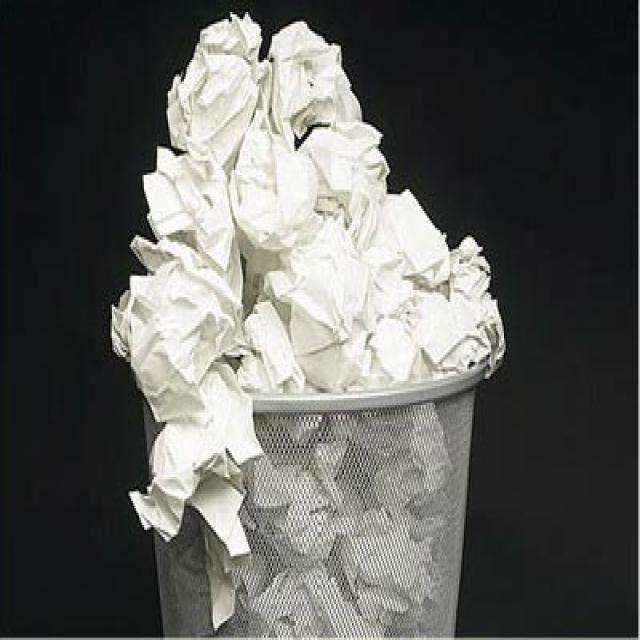Papel: (299, 94, 510, 384), (122, 346, 281, 639), (97, 216, 264, 443), (259, 190, 376, 401), (141, 115, 251, 337), (160, 9, 264, 164), (270, 16, 364, 142)
